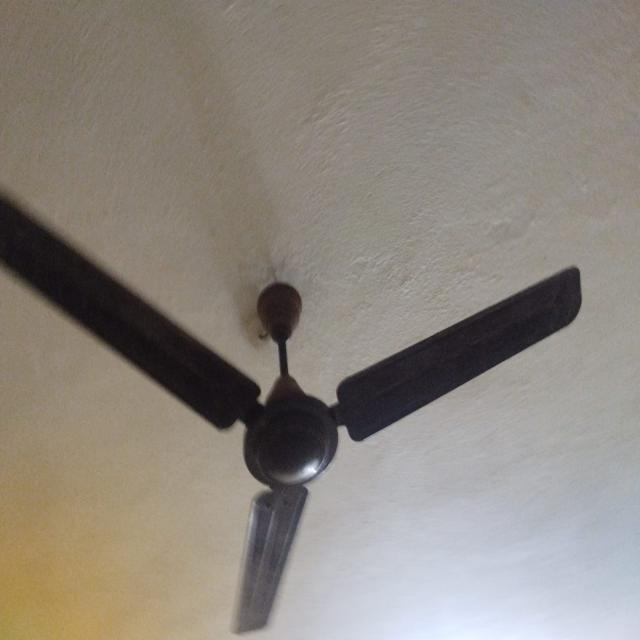fan_off: (2, 186, 585, 636)
